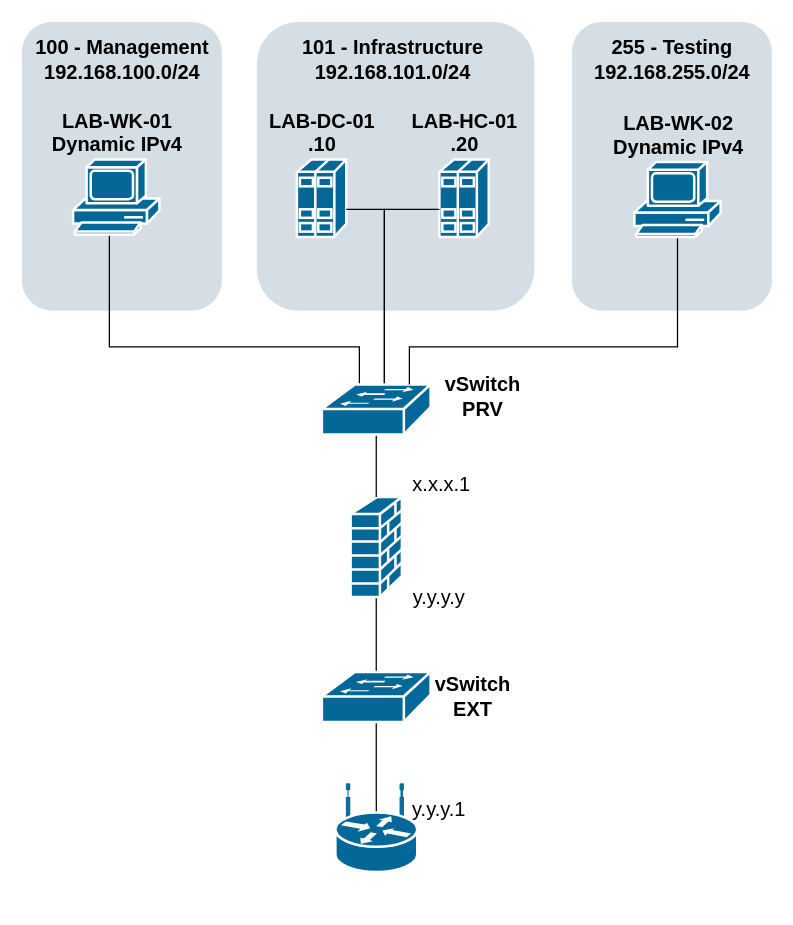
The diagram is 793 pixels wide and 925 high, and some of its shapes have lost their labels. Here are the shapes that lost their labels. From the top down, the centre of each, then its label:
At (375,546): "LAB-GW-02".
At (376,827): "Home router".
